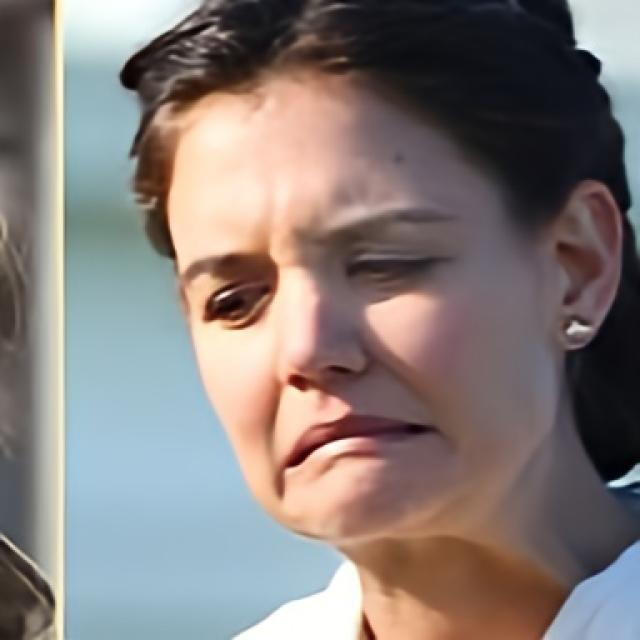disgust: (167, 66, 552, 547)
